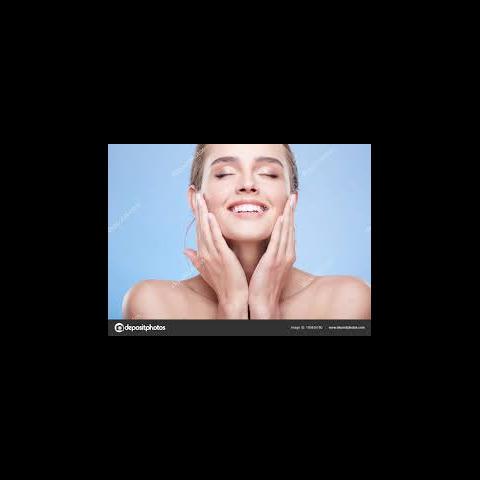closed: (209, 152, 287, 184)
